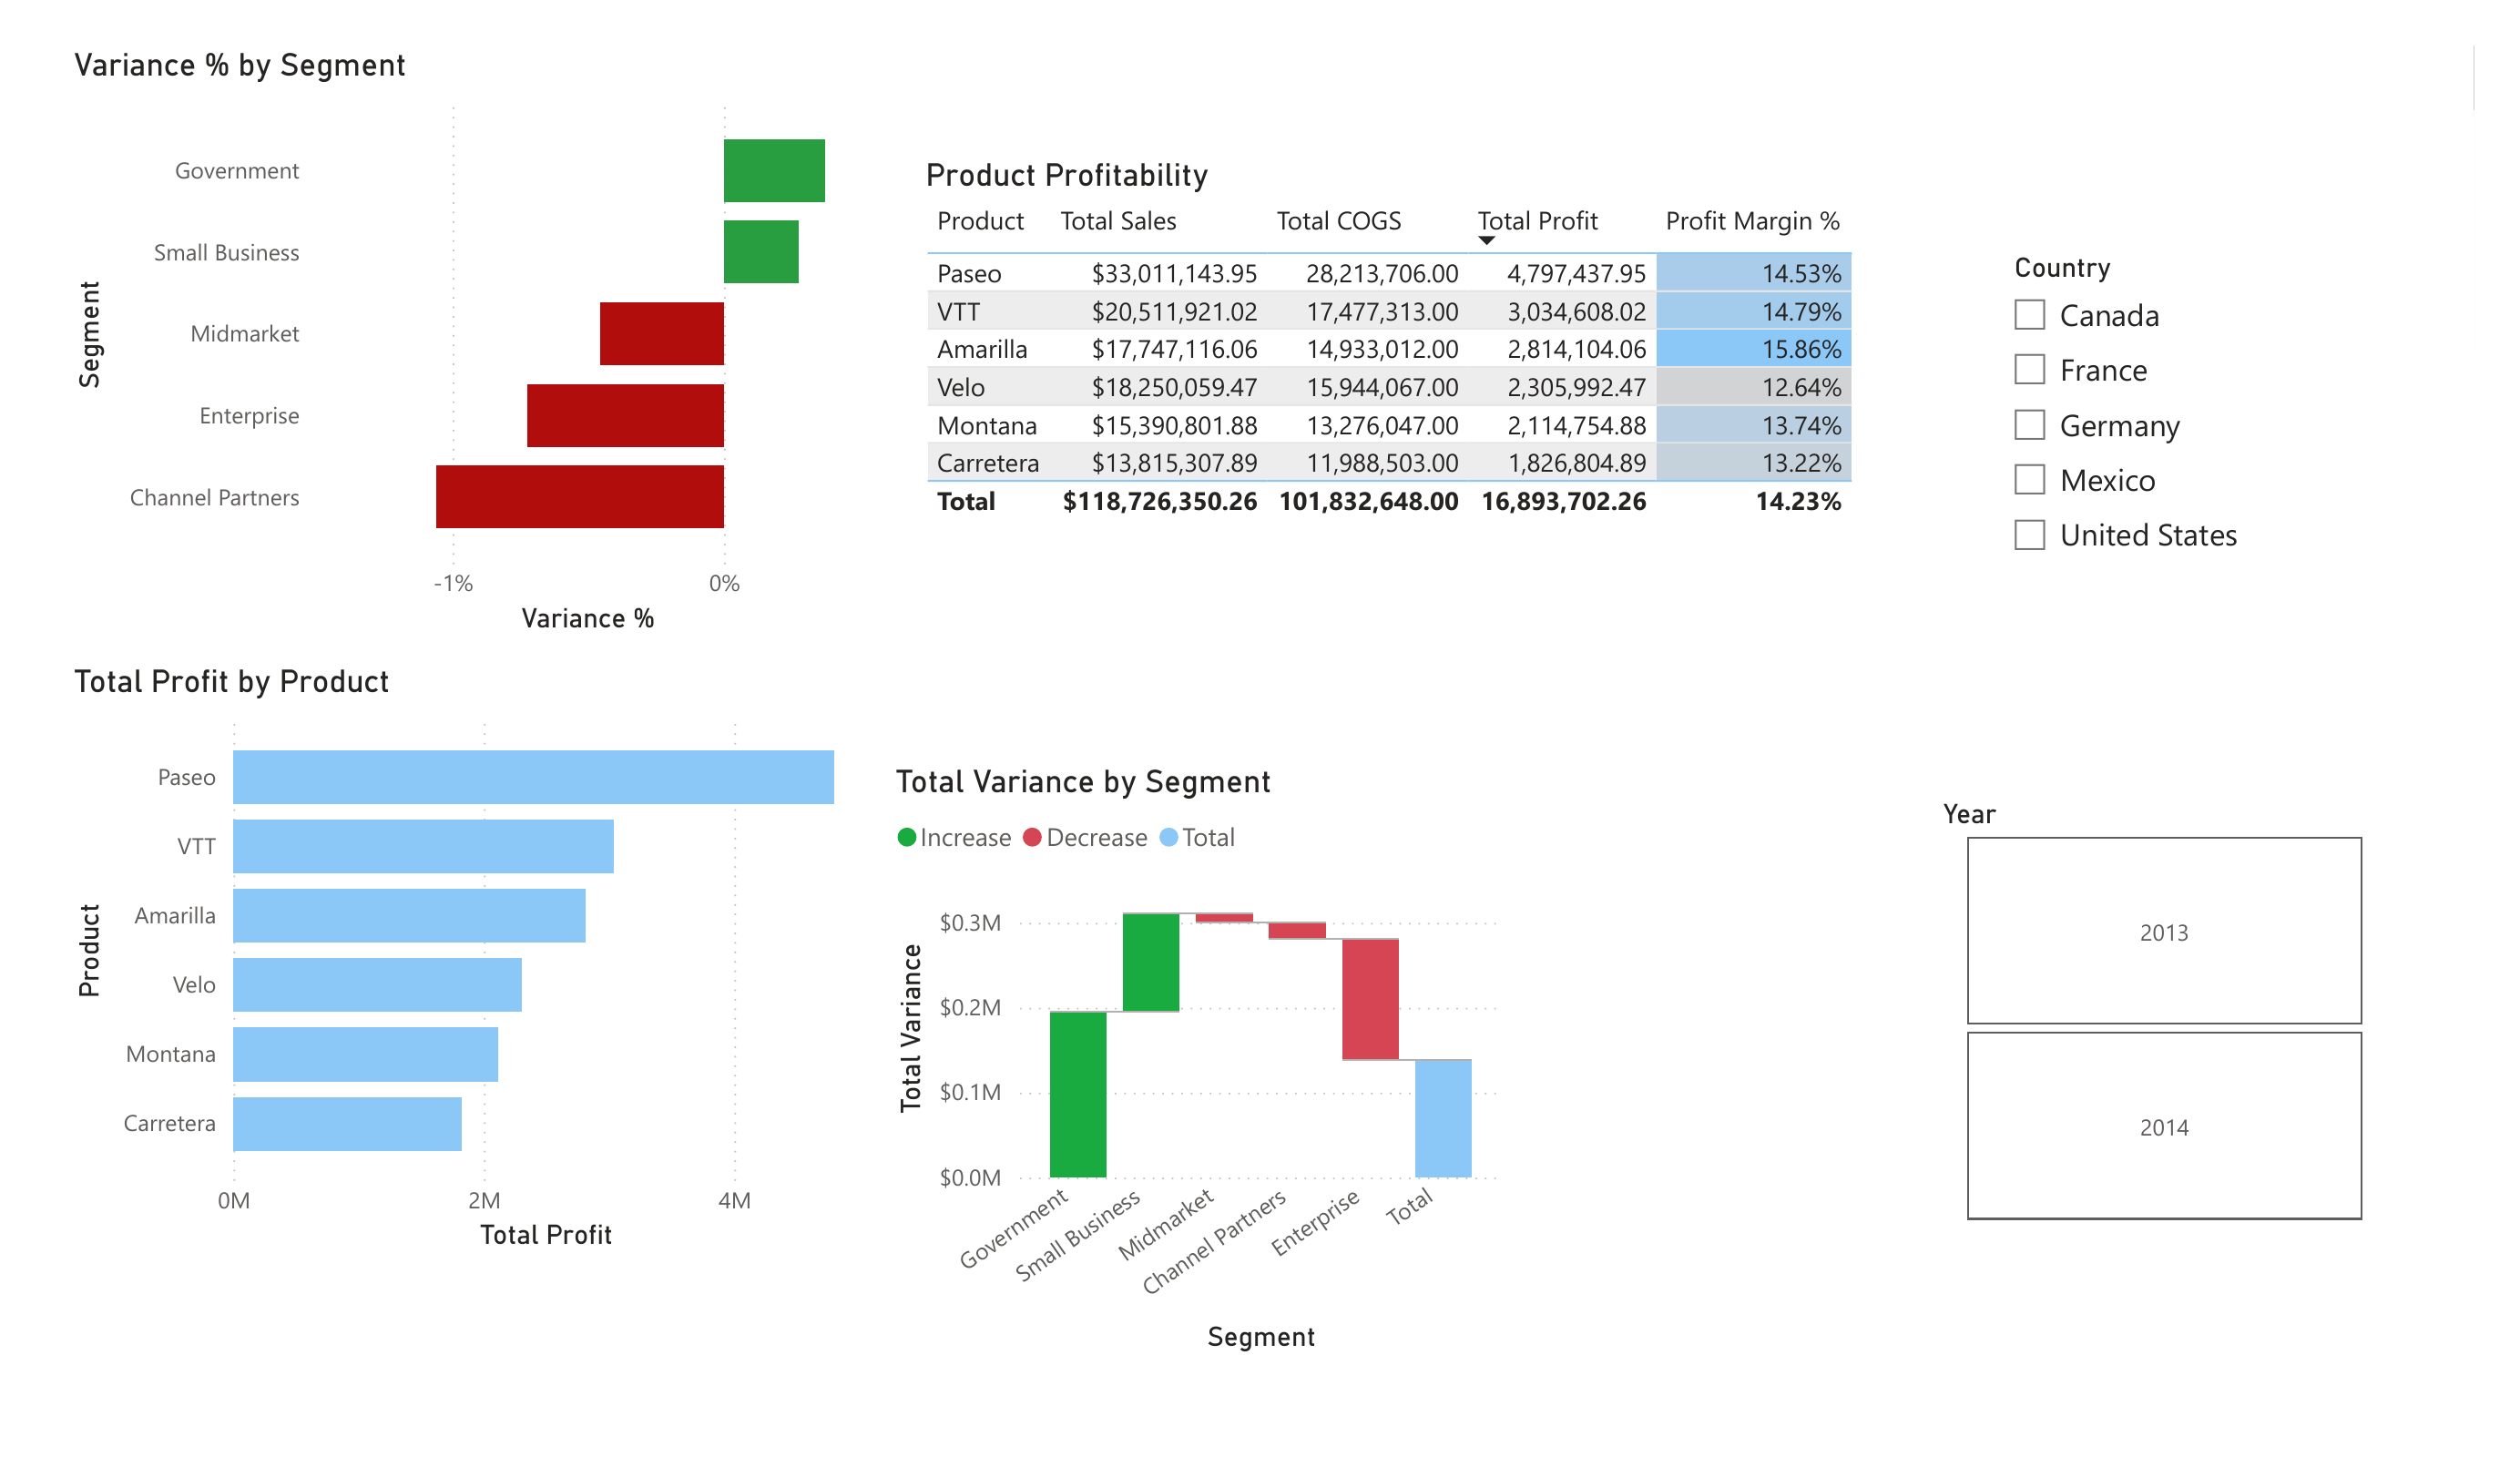

The page's visual inventory and layout, read from the dashboard file:
{"tool":"powerbi","page":{"name":"Deep Dive","canvas":[1280,720],"ordinal":1},"visuals":[{"type":"clusteredBarChart","fields":{"Y":["AllMeasures.Variance %"],"Category":["financials.Segment"]},"box":[9.7,0,432.8,315.1],"z":0},{"type":"clusteredBarChart","fields":{"Category":["financials.Product"],"Y":["AllMeasures.Total Profit"]},"box":[10,325,433,315],"z":1},{"type":"tableEx","title":"Product Profitability","fields":{"Values":["financials.Product","AllMeasures.Total Sales","Sum(financials.COGS)","AllMeasures.Total Profit","AllMeasures.Profit Margin %"]},"box":[459,57.5,499.6,200.7],"z":2},{"type":"slicer","fields":{"Values":["financials.Country"]},"box":[1025.1,103.8,182.7,210.9],"z":3},{"type":"slicer","fields":{"Values":["Dates.Year"]},"box":[986.8,392.5,258.3,233.4],"z":4},{"type":"waterfallChart","fields":{"Category":["financials.Segment"],"Y":["AllMeasures.Total Variance"]},"box":[443.2,377.8,329.3,315.8],"z":5}]}

Visuals, with their boxes on the page's 1280x720 design canvas (x1, y1, x2, y2). These are canvas units, not pixel positions in the 2520x1457 screenshot, which may show the page scaled, cropped or inside an application window:
clusteredBarChart - AllMeasures.Variance % x financials.Segment: <bbox>10, 0, 442, 315</bbox>
clusteredBarChart - financials.Product x AllMeasures.Total Profit: <bbox>10, 325, 443, 640</bbox>
"Product Profitability" tableEx: <bbox>459, 58, 959, 258</bbox>
slicer - financials.Country: <bbox>1025, 104, 1208, 315</bbox>
slicer - Dates.Year: <bbox>987, 392, 1245, 626</bbox>
waterfallChart - financials.Segment x AllMeasures.Total Variance: <bbox>443, 378, 772, 694</bbox>
